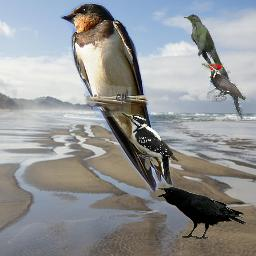Crow: (157, 187, 247, 240)
Cuckoo: (184, 14, 231, 81)
Swallow: (59, 2, 173, 192)
Woodpecker: (120, 110, 178, 187), (201, 63, 246, 119)
